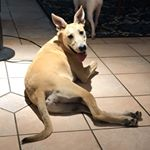puppy: (21, 3, 146, 147)
